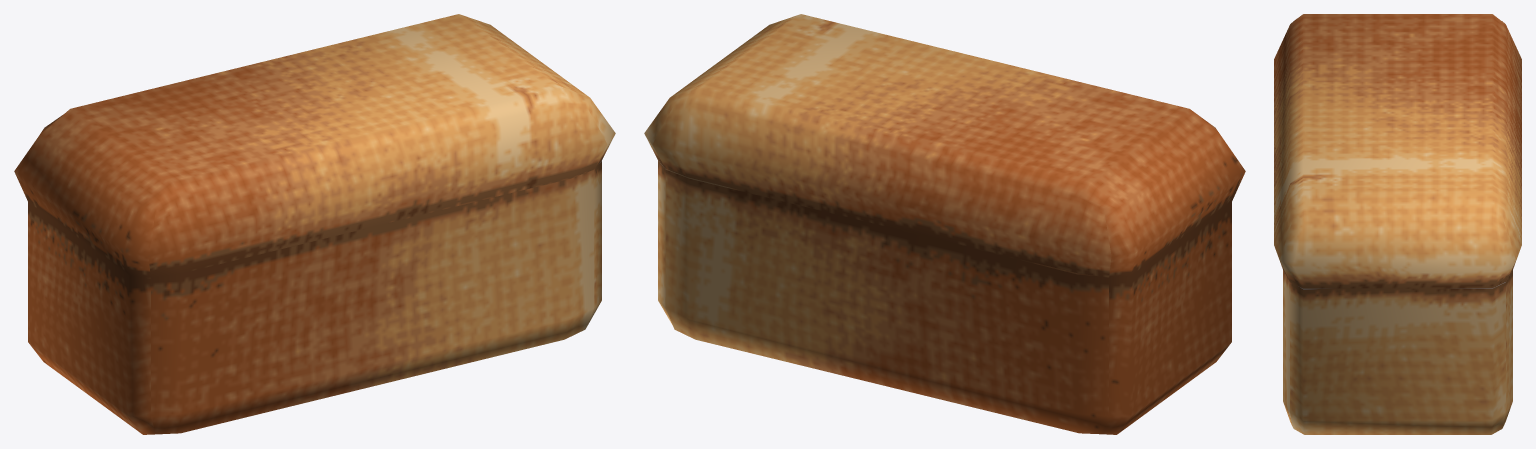
Rendered from 2x1x1 Bread.fbx.
3 views of the same model, side by side, from view 1: azimuth 30°, elevation 25°; view 2: azimuth 150°, elevation 25°; view 3: azimuth 270°, elevation 25° (orthographic). The views are drawn at different scales.
Parts seen in each view (by area): view 1: 2x1x1Bread; view 2: 2x1x1Bread; view 3: 2x1x1Bread.
Part boxes in pixels (x1,y1,x2,y2): 2x1x1Bread: [14, 14, 615, 434]; 2x1x1Bread: [644, 14, 1245, 434]; 2x1x1Bread: [1274, 14, 1521, 434].
Size of the model in its own units: 208 by 100 by 97.26.
Materials: 1 (1 with a texture image).
